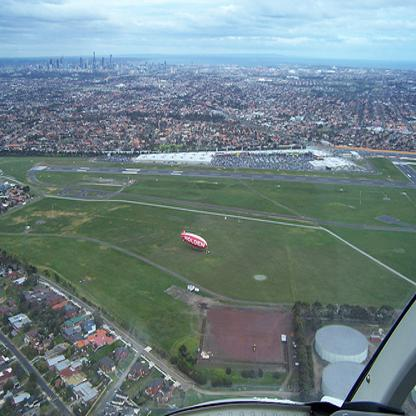Airship: (179, 226, 215, 258)
